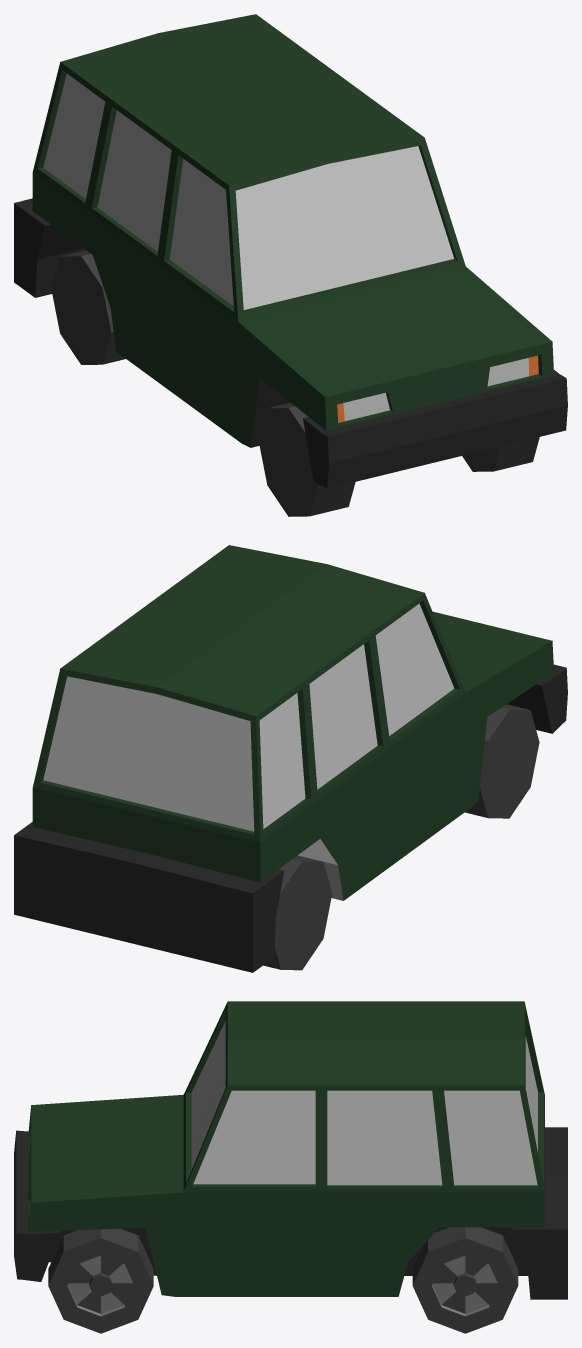
The model's file is scene_q7WGreYZd7.glb.
3 views of the same model, one above another, from view 1: azimuth 30°, elevation 25°; view 2: azimuth 150°, elevation 25°; view 3: azimuth 270°, elevation 25° (orthographic). The views are drawn at different scales.
Visible parts, largest first — view 1: body_Cube_body, body_Cube_glass, body_Cube_bumper, tires_Cylinder_tires; view 2: body_Cube_body, body_Cube_glass, body_Cube_bumper, tires_Cylinder_tires, body_Cube_underchassis; view 3: body_Cube_body, body_Cube_glass, tires_Cylinder_tires, body_Cube_bumper, tires_Cylinder_rim.
Boxes of the visible parts, bbox=[...] form: body_Cube_body: bbox=[32, 14, 553, 447]; body_Cube_glass: bbox=[43, 73, 528, 421]; body_Cube_bumper: bbox=[14, 198, 567, 488]; tires_Cylinder_tires: bbox=[51, 250, 539, 516]; body_Cube_body: bbox=[32, 545, 553, 900]; body_Cube_glass: bbox=[43, 603, 454, 831]; body_Cube_bumper: bbox=[14, 664, 567, 972]; tires_Cylinder_tires: bbox=[263, 704, 539, 970]; body_Cube_underchassis: bbox=[298, 839, 343, 900]; body_Cube_body: bbox=[28, 1001, 544, 1296]; body_Cube_glass: bbox=[191, 1021, 537, 1185]; tires_Cylinder_tires: bbox=[48, 1227, 518, 1333]; body_Cube_bumper: bbox=[14, 1127, 567, 1299]; tires_Cylinder_rim: bbox=[67, 1255, 498, 1316].
Bounding box in the file's own units: 2.1 × 2.35 × 4.8.
